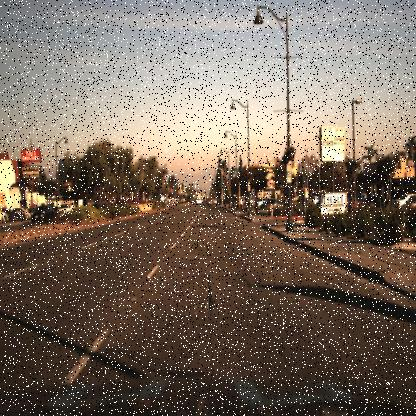car: (31, 205, 55, 224), (207, 199, 213, 206), (197, 199, 202, 205)
truck: (57, 200, 76, 218)
